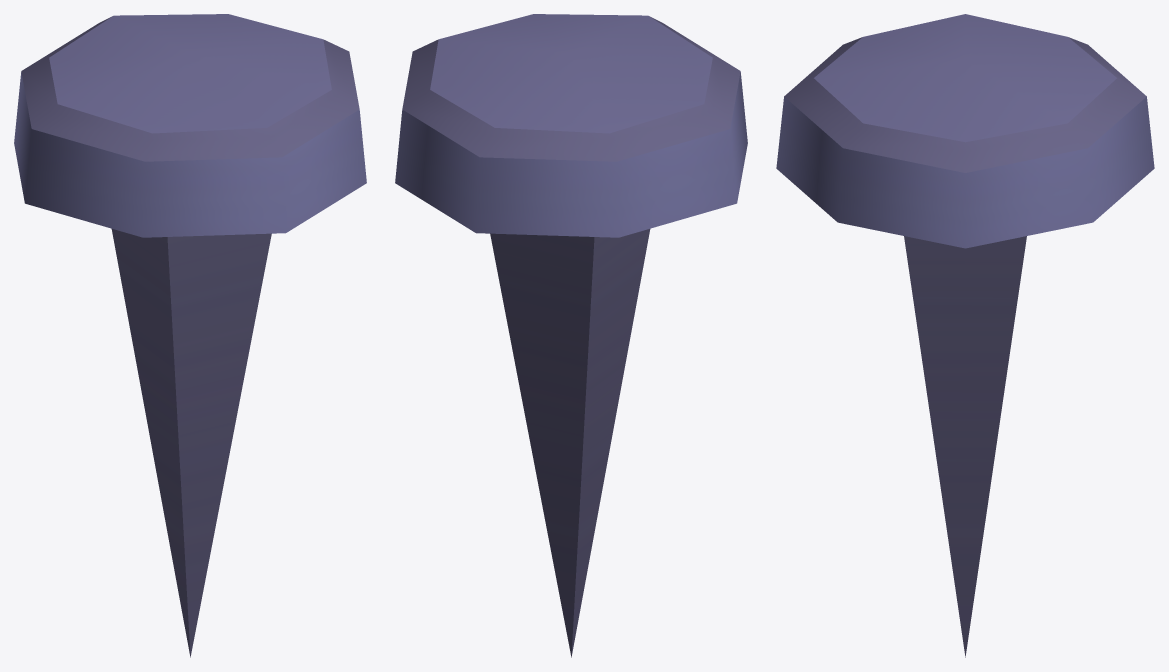
The model's file is Nail_D.glb.
3 views of the same model, side by side, from view 1: azimuth 30°, elevation 25°; view 2: azimuth 150°, elevation 25°; view 3: azimuth 270°, elevation 25° (orthographic).
Visible parts, largest first — view 1: Nail_D; view 2: Nail_D; view 3: Nail_D.
Part boxes in pixels (left/top/right/bottom): Nail_D: left=14, top=14, right=366, bottom=657; Nail_D: left=395, top=14, right=747, bottom=657; Nail_D: left=776, top=14, right=1154, bottom=657.
Bounding box in the file's own units: 0.0888 × 0.1548 × 0.0888.
1 material, 1 textured.
